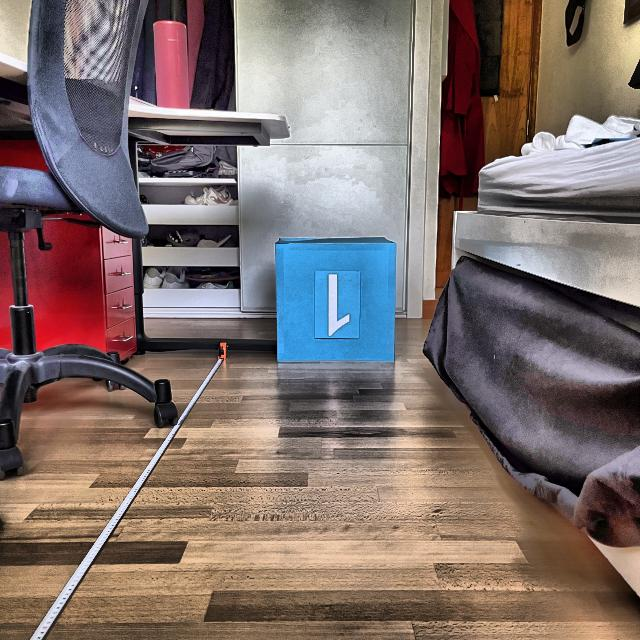blue box: (274, 236, 399, 366)
one: (326, 272, 352, 337)
